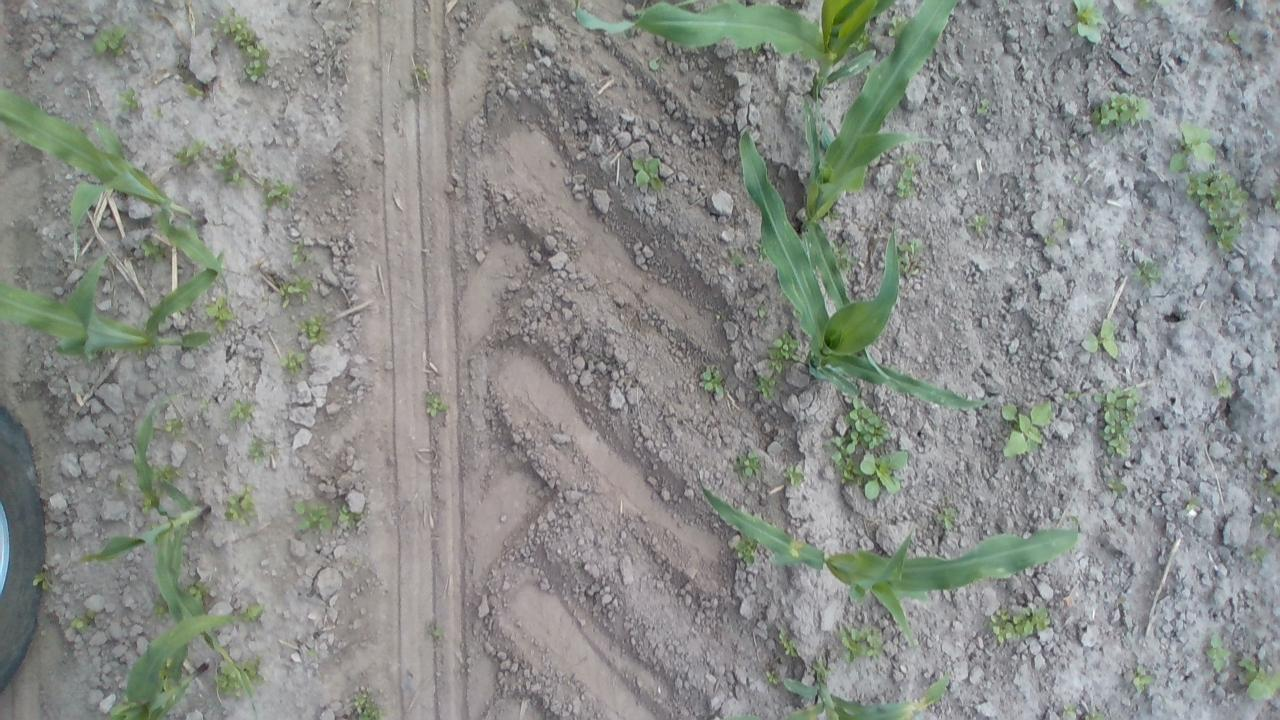Maize: (738, 122, 993, 412), (694, 470, 1079, 650), (801, 0, 962, 397), (76, 392, 259, 708), (573, 0, 900, 150), (0, 80, 227, 293), (0, 249, 225, 364), (103, 615, 240, 717), (709, 672, 950, 720)
Weeds: (1184, 168, 1248, 253), (212, 6, 270, 84), (1095, 382, 1140, 458), (1002, 400, 1052, 458), (844, 395, 892, 450), (1091, 91, 1152, 134), (986, 604, 1051, 644), (860, 452, 909, 500), (1168, 123, 1216, 172), (1237, 656, 1280, 702), (838, 624, 884, 665), (823, 436, 860, 485), (1070, 0, 1108, 44), (1080, 319, 1118, 359), (764, 332, 801, 373), (212, 146, 245, 189), (225, 484, 258, 526), (258, 176, 296, 212), (88, 24, 129, 57), (290, 501, 332, 532), (295, 312, 330, 348), (895, 237, 924, 277), (214, 660, 244, 698), (204, 296, 235, 332), (897, 152, 921, 198), (278, 274, 310, 308), (632, 156, 664, 190), (828, 239, 858, 273), (732, 450, 764, 481), (400, 64, 432, 94), (1130, 260, 1163, 289), (1206, 634, 1230, 672), (734, 532, 759, 568), (171, 140, 204, 167), (353, 691, 381, 720), (279, 348, 307, 376), (699, 364, 724, 395), (777, 626, 799, 659), (242, 654, 264, 686), (151, 463, 182, 485), (846, 29, 872, 55), (116, 87, 140, 115), (754, 374, 780, 399), (424, 393, 450, 418), (70, 608, 96, 633), (139, 239, 166, 263), (337, 502, 360, 530), (1132, 664, 1155, 692), (228, 399, 254, 423), (187, 580, 211, 604), (782, 464, 806, 487), (290, 238, 308, 267), (1261, 509, 1280, 536), (153, 590, 170, 620), (812, 658, 834, 681), (966, 214, 989, 236), (1210, 376, 1232, 397), (241, 604, 264, 624), (1250, 543, 1270, 566), (1255, 479, 1280, 497), (936, 508, 956, 530), (888, 14, 908, 36), (160, 657, 172, 693), (247, 442, 267, 463), (1222, 27, 1242, 45), (164, 417, 182, 437), (31, 572, 50, 590), (1108, 477, 1126, 496), (753, 241, 768, 263), (140, 492, 154, 514), (764, 668, 781, 686), (824, 205, 842, 222), (1269, 187, 1280, 211), (1062, 702, 1078, 718), (1084, 710, 1109, 720), (1138, 0, 1169, 8), (1050, 217, 1066, 232), (114, 478, 128, 494), (648, 55, 662, 70), (730, 250, 744, 265), (187, 84, 204, 96), (135, 345, 150, 357), (978, 99, 988, 115), (1185, 499, 1198, 511), (1063, 391, 1080, 400), (1043, 236, 1058, 246), (75, 122, 87, 134), (150, 484, 162, 496), (201, 397, 213, 408), (378, 6, 391, 16), (152, 108, 164, 118), (752, 42, 762, 54), (622, 28, 632, 39), (433, 628, 445, 637), (758, 306, 767, 318), (1071, 172, 1080, 183), (780, 290, 789, 301), (1260, 466, 1268, 478), (308, 648, 318, 657), (1120, 239, 1128, 249)
